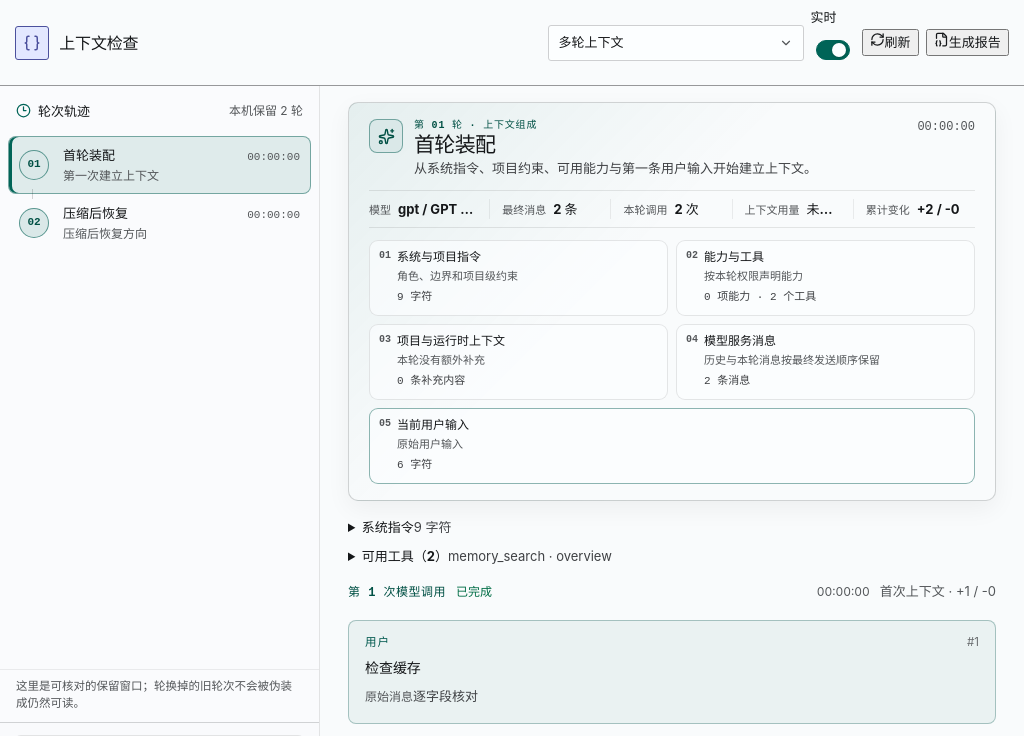
Scenario: ContextDebugFeature › navigates retained turns and explains initial versus compaction recovery assembly
Expected: the heading "首轮装配" is shown, [414, 132, 496, 157]
What coordinates should you click on to do the following:
click the button "02 压缩后恢复 00:00:00 压缩后恢复方向"
I would click on:
 (96, 213)
Its box is [8, 194, 311, 252].
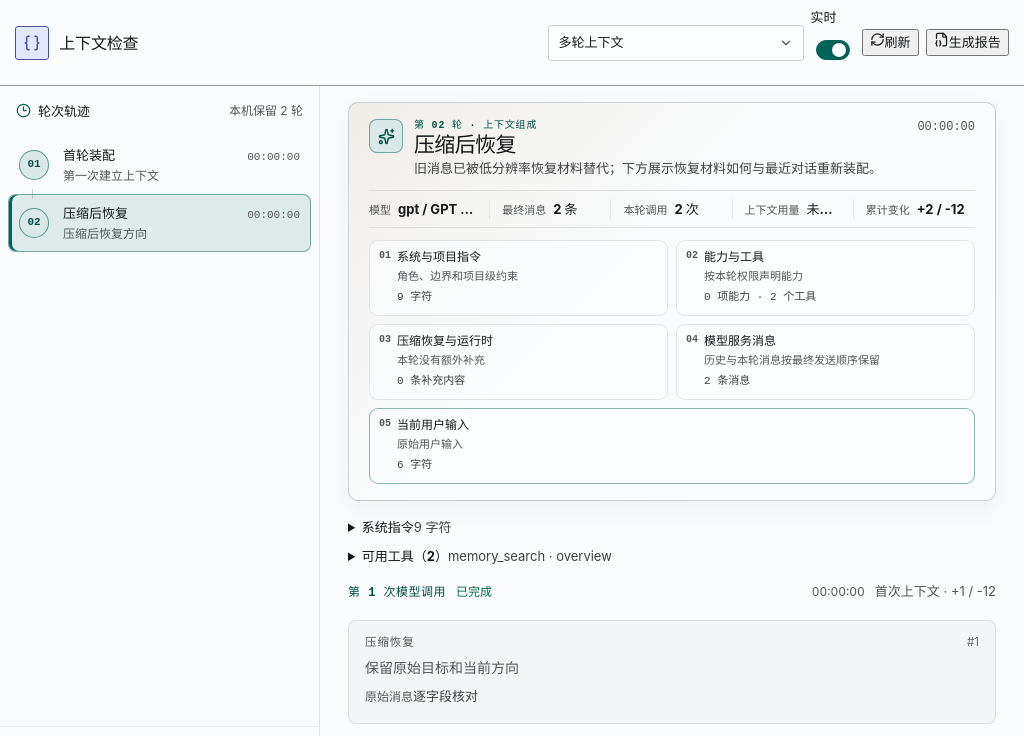
Now the heading "压缩后恢复" is shown, box [414, 132, 516, 157]
Now the text "旧消息已被低分辨率恢复材料替代" is shown, box [414, 160, 882, 176]
Now the text "压缩恢复与运行时" is shown, box [397, 333, 493, 348]
